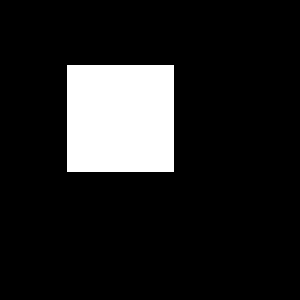circle: (67, 65, 174, 172)
